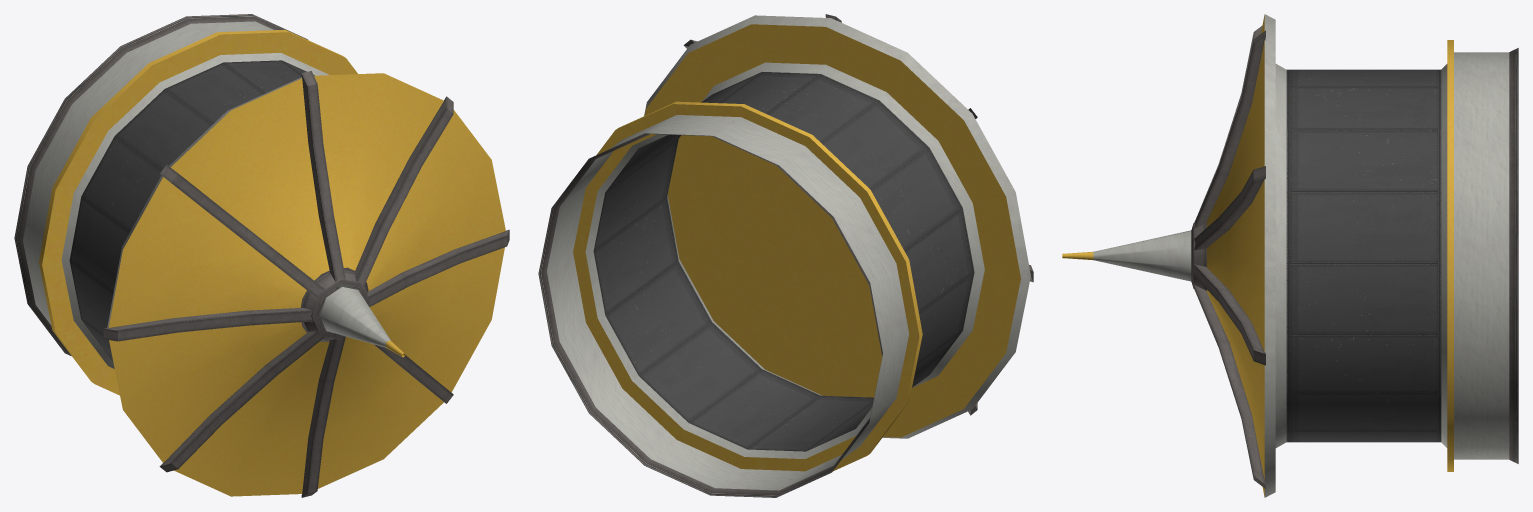
The model's file is nt_2020_vista_kiosk_yellow_LOD0.obj.
3 views of the same model, side by side, from view 1: azimuth 30°, elevation 25°; view 2: azimuth 150°, elevation 25°; view 3: azimuth 270°, elevation 25° (orthographic). The views are drawn at different scales.
Parts seen in each view (by area): view 1: nt_2020_plastic_yellow, metal_trim_black_clean, facade_glass_window_01_gray, plaster_whitewall_01; view 2: nt_2020_plastic_yellow, facade_glass_window_01_gray, plaster_whitewall_01, metal_trim_black_clean; view 3: facade_glass_window_01_gray, plaster_whitewall_01, nt_2020_plastic_yellow, metal_trim_black_clean.
Part boxes in pixels (x1,y1,x2,y2): nt_2020_plastic_yellow: (39,29,505,496); metal_trim_black_clean: (14,14,509,497); facade_glass_window_01_gray: (69,60,314,361); plaster_whitewall_01: (23,21,390,368); nt_2020_plastic_yellow: (573,24,1020,471); facade_glass_window_01_gray: (593,72,974,451); plaster_whitewall_01: (547,15,1030,490); metal_trim_black_clean: (538,14,1033,497); facade_glass_window_01_gray: (1286,69,1441,442); plaster_whitewall_01: (1093,14,1509,497); nt_2020_plastic_yellow: (1062,15,1453,496); metal_trim_black_clean: (1191,25,1518,488).
Bounding box in the file's own units: 740 × 740 × 686.
